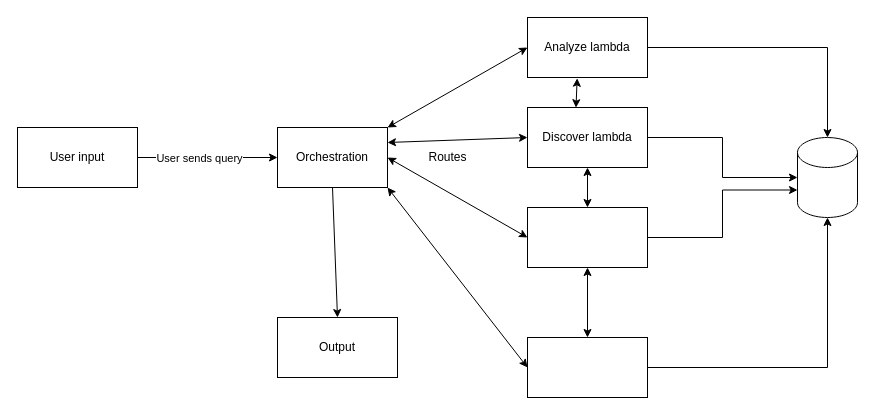
Image size: 875x415. Some labels were removed from this diagram. Each missing label, with the centre of its shape:
"Extract lambda" belongs at pixel 587 237.
"Knowlede Base" belongs at pixel 827 177.
"Report lambda" belongs at pixel 587 367.
